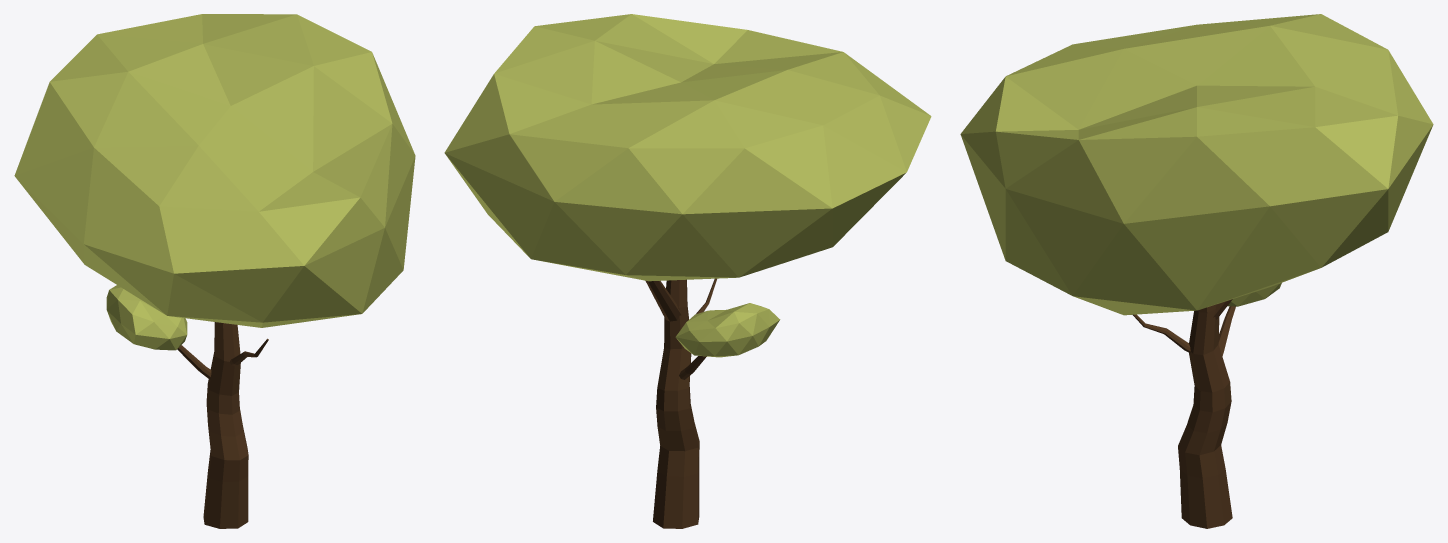
Rendered from Tree 007.fbx.
3 renders of one model, left to right at view 1: azimuth 30°, elevation 25°; view 2: azimuth 150°, elevation 25°; view 3: azimuth 270°, elevation 25°, orthographic. The views are drawn at different scales.
Visible parts, largest first — view 1: Tree 002.002; view 2: Tree 002.002; view 3: Tree 002.002.
Boxes of the visible parts, x1,y1,x2,y2 form: Tree 002.002: (14,14,415,528); Tree 002.002: (444,14,931,528); Tree 002.002: (960,14,1433,528).
Bounding box in the file's own units: 473 × 595 × 556.
